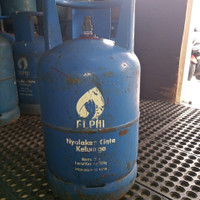blue_gas: (37, 1, 142, 200), (15, 10, 54, 115), (1, 35, 19, 125)
